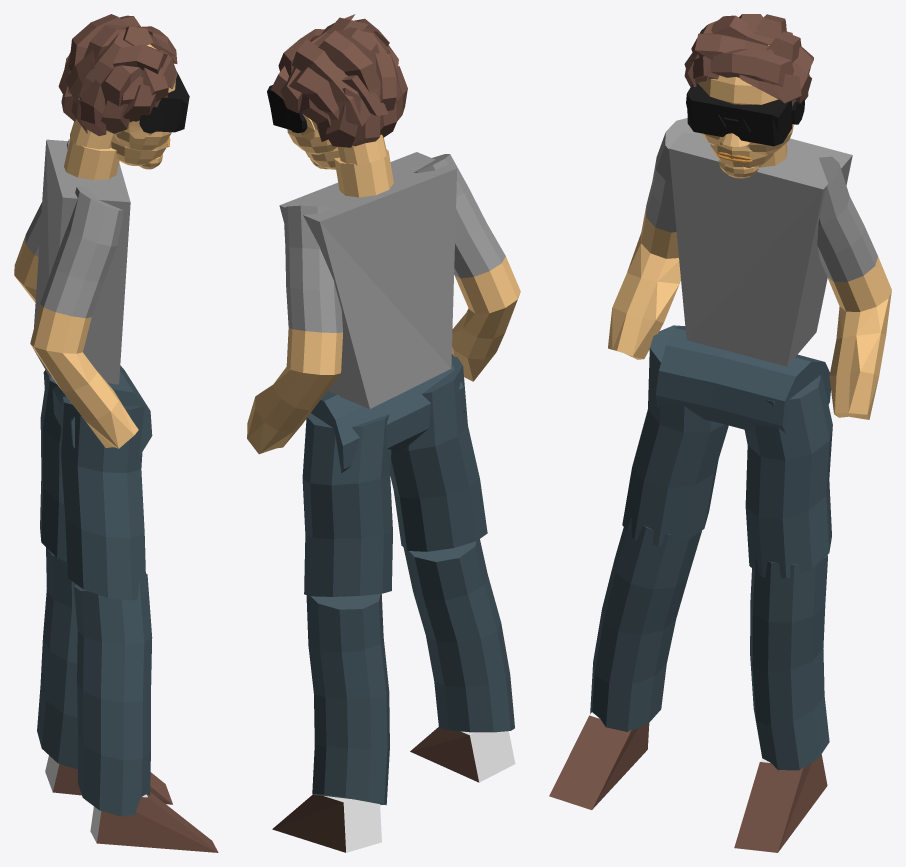
The model's file is man.obj.
3 renders of one model, left to right at view 1: azimuth 30°, elevation 25°; view 2: azimuth 150°, elevation 25°; view 3: azimuth 270°, elevation 25°, orthographic. The views are drawn at different scales.
Visible parts, largest first — view 1: group1908547829; view 2: group1908547829; view 3: group1908547829.
Part boxes in pixels (x1,y1,x2,y2): group1908547829: (14, 14, 218, 852); group1908547829: (247, 14, 520, 852); group1908547829: (549, 14, 891, 852).
Bounding box in the file's own units: 0.2484 × 0.9822 × 0.3764.
